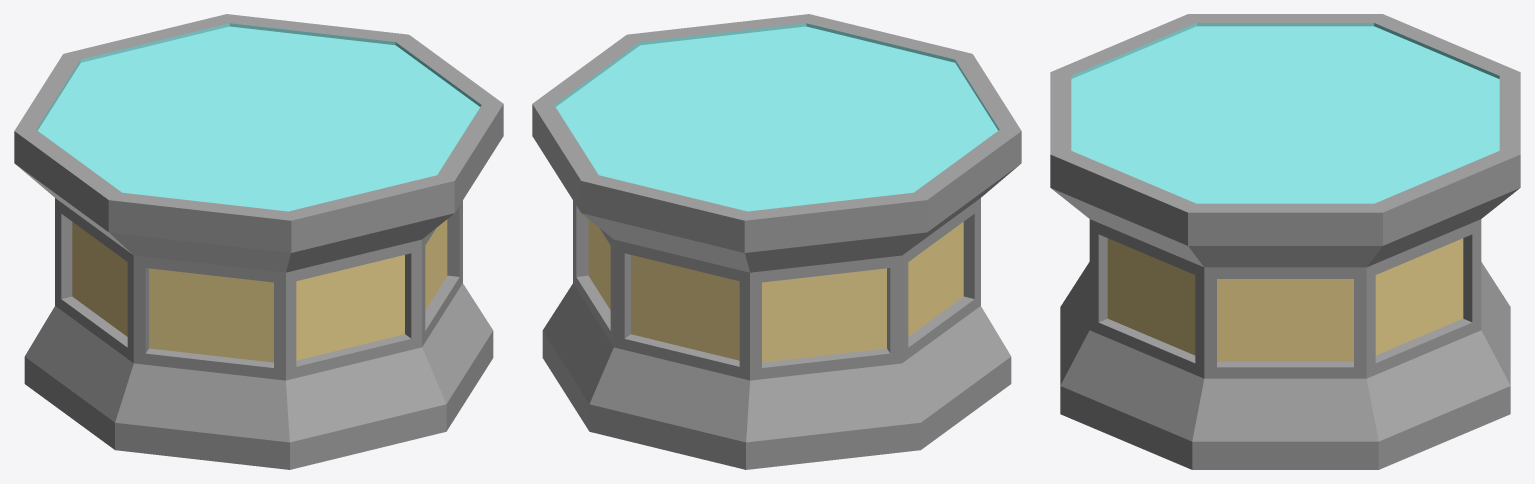
Rendered from SciFi_Table_Hologram_Round_Grey_01.fbx.
The picture shows the model from 3 angles, left to right: view 1: azimuth 30°, elevation 25°; view 2: azimuth 150°, elevation 25°; view 3: azimuth 270°, elevation 25°; orthographic projection. The views are drawn at different scales.
Visible parts, largest first — view 1: SciFi_Table_Hologram_Round_Grey_01; view 2: SciFi_Table_Hologram_Round_Grey_01; view 3: SciFi_Table_Hologram_Round_Grey_01.
Part boxes in pixels (bbox=[...]): SciFi_Table_Hologram_Round_Grey_01: bbox=[14, 14, 503, 469]; SciFi_Table_Hologram_Round_Grey_01: bbox=[532, 14, 1021, 469]; SciFi_Table_Hologram_Round_Grey_01: bbox=[1050, 14, 1520, 469].
Bounding box in the file's own units: 79.23 × 48.62 × 79.23.
